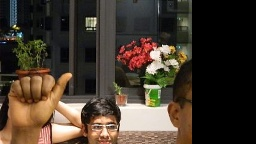Pugno: (1, 69, 75, 126)
